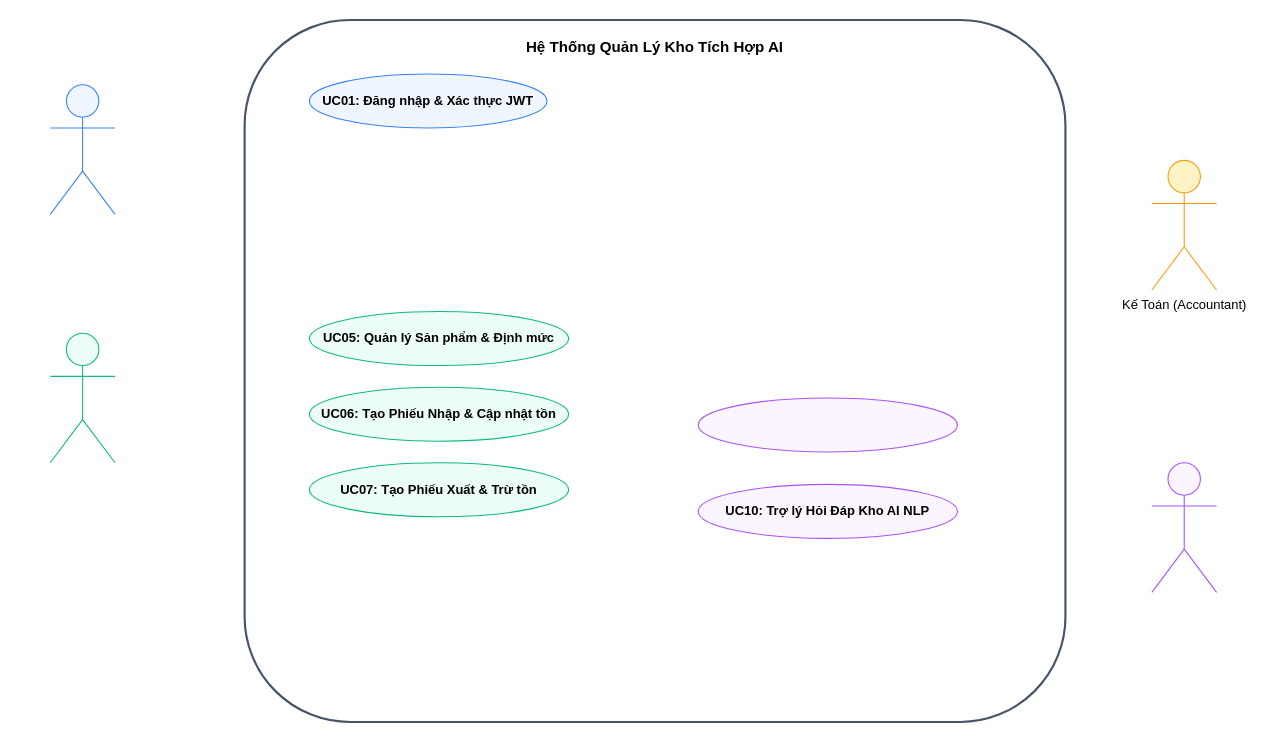
This 1268x741 diagram has some shape labels left out. Here are the shapes that lost their labels. From the top down, the centre of each, then its label:
At point 82,149: "Quản Trị Viên (Admin)".
At point 82,397: "Thủ Kho (Warehouse)".
At point 827,424: "UC09: Dự báo Tồn kho AI".
At point 1184,527: "Dịch vụ AI (AI Service)".
